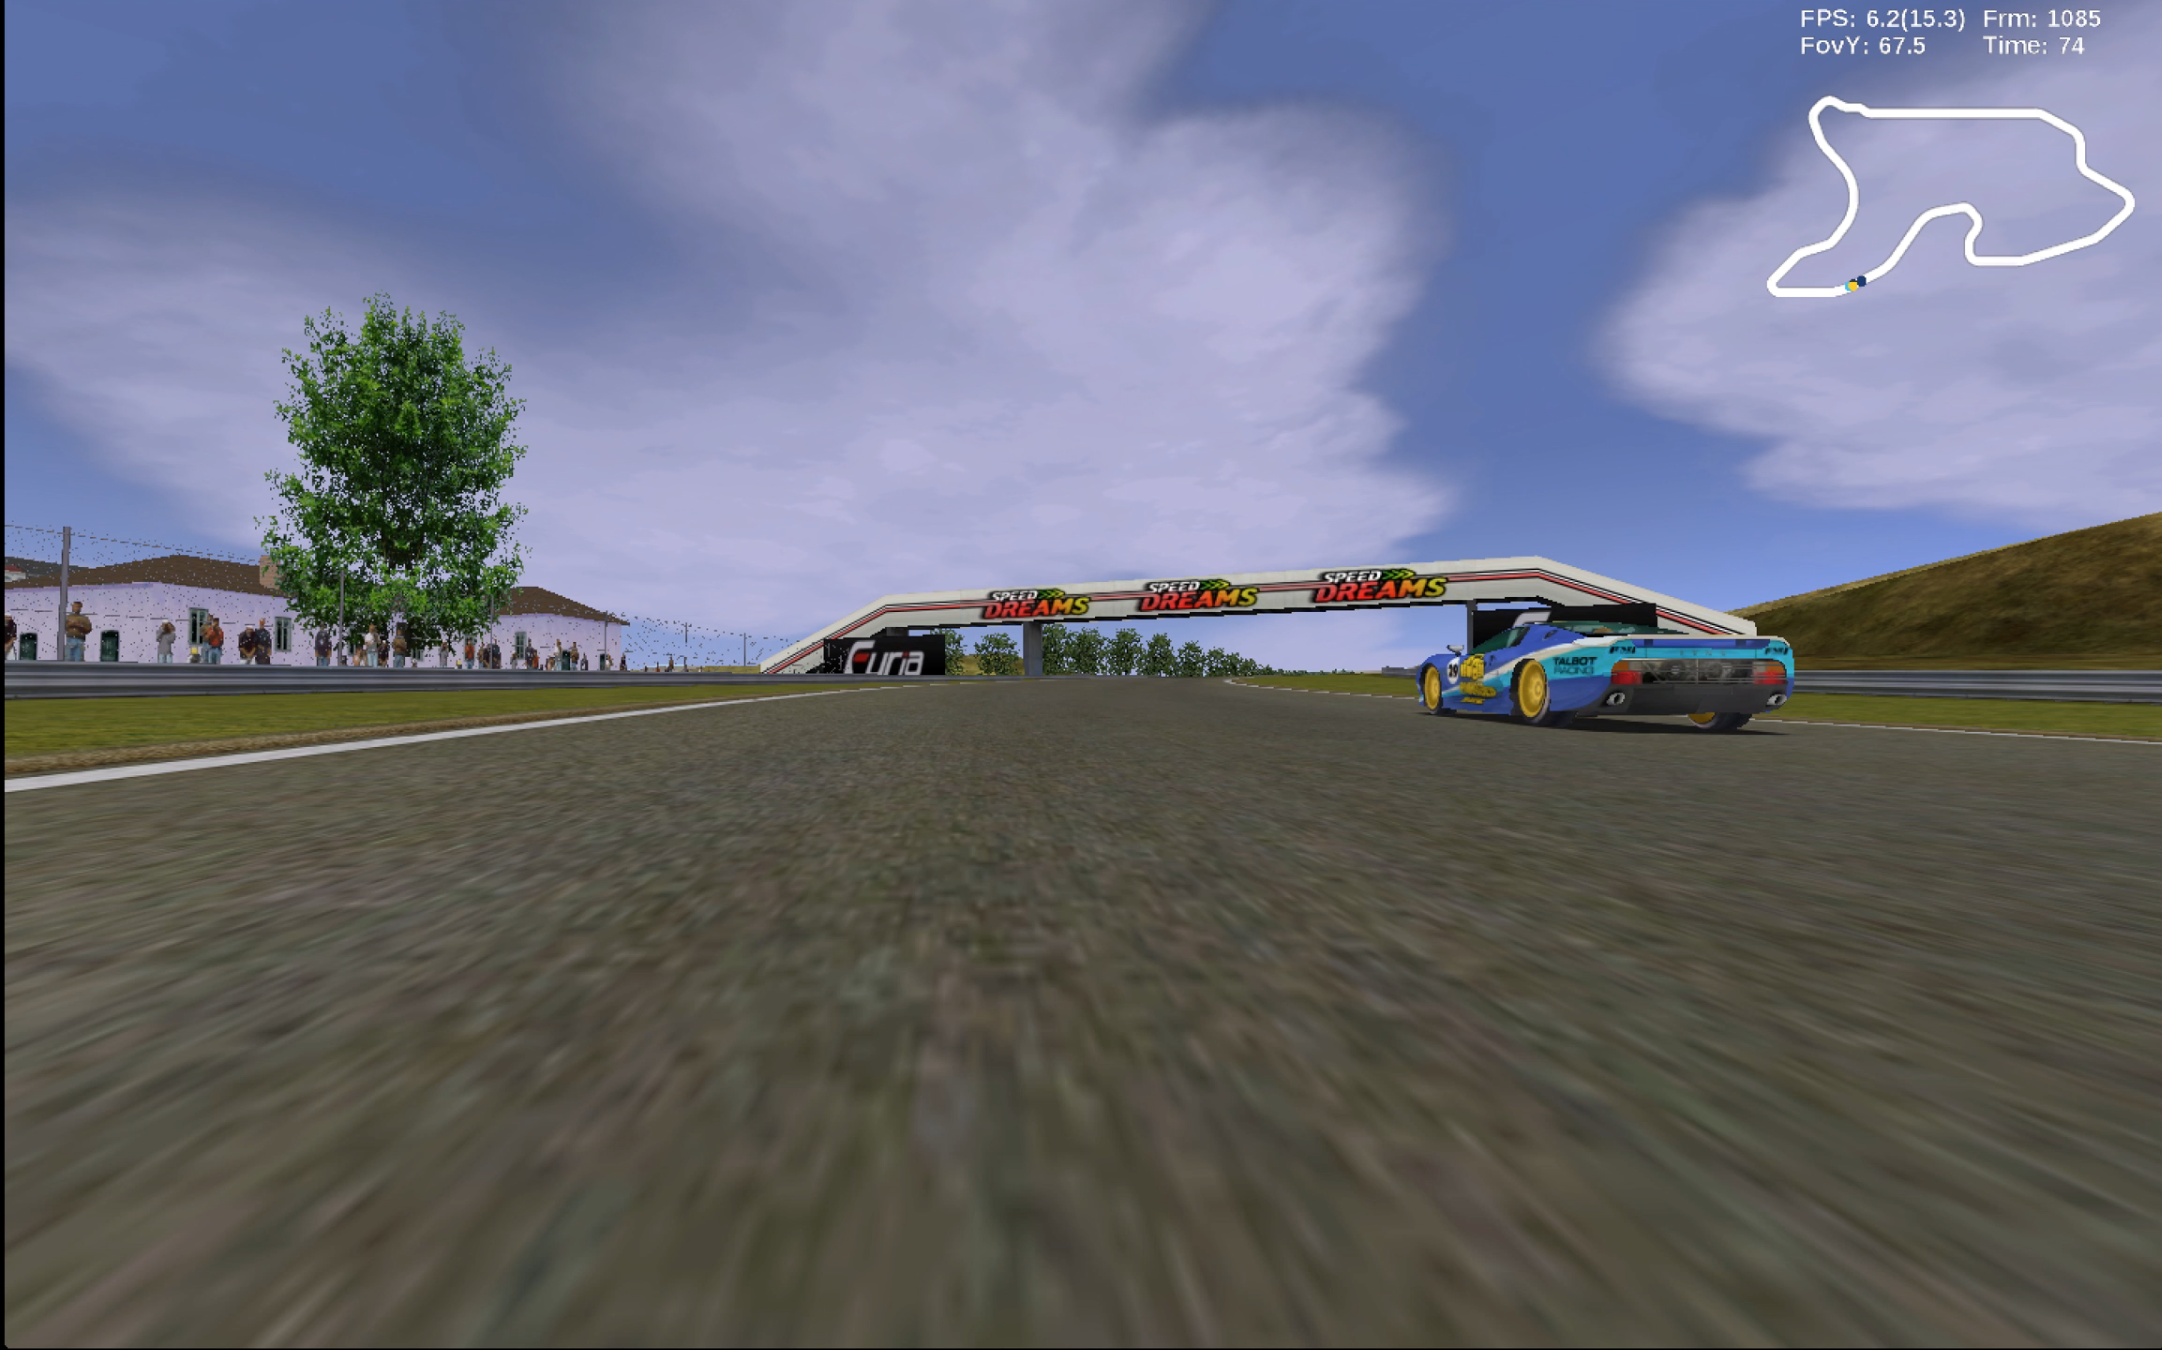Lynx220: (1415, 611, 1796, 731)
